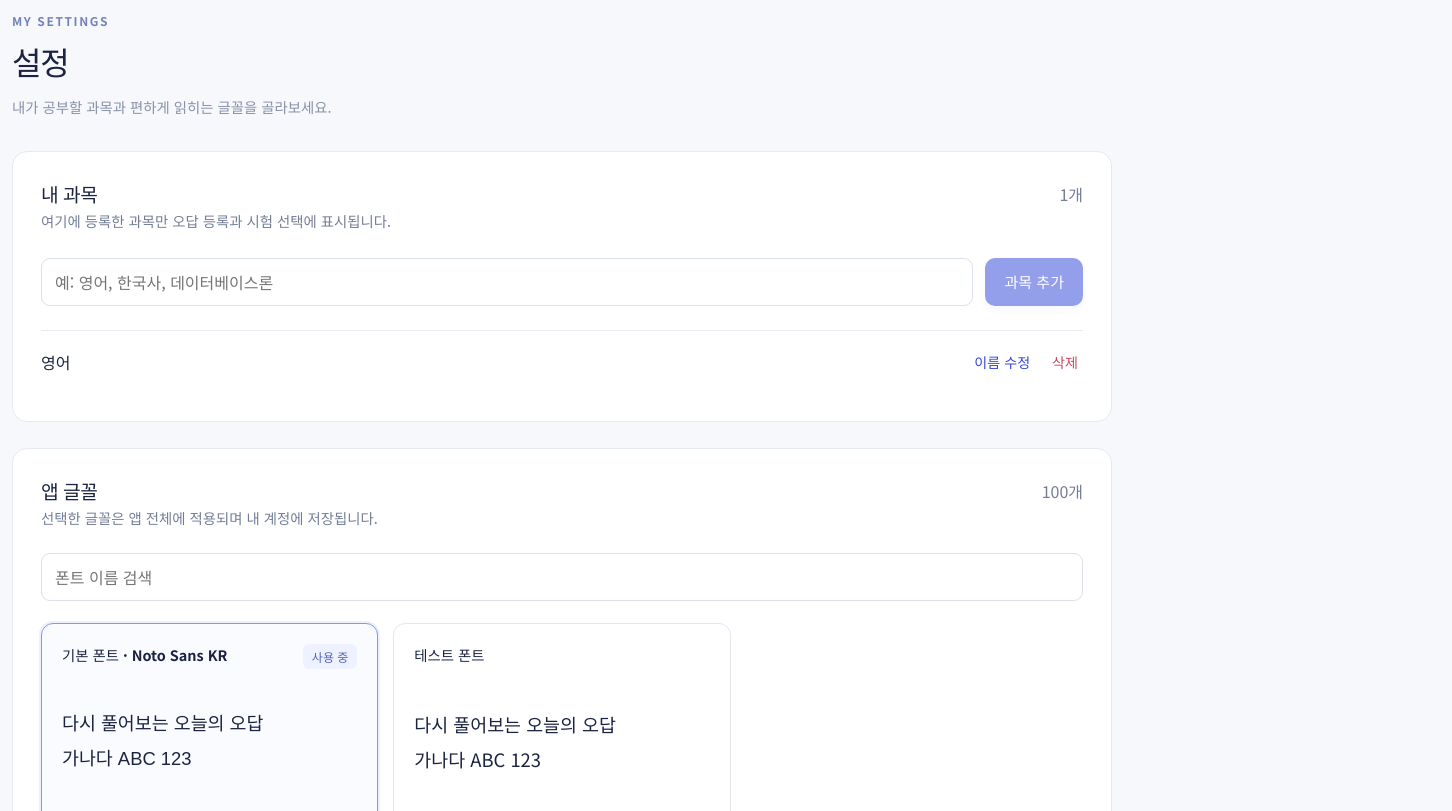
Test: 설정에서 과목 추가·이름 변경·삭제를 할 수 있다
The width and height of the screenshot is (1452, 811).
Step 1. Type "한국사" into the field named "새 과목 이름" → x=507, y=282, box [41, 258, 974, 306]
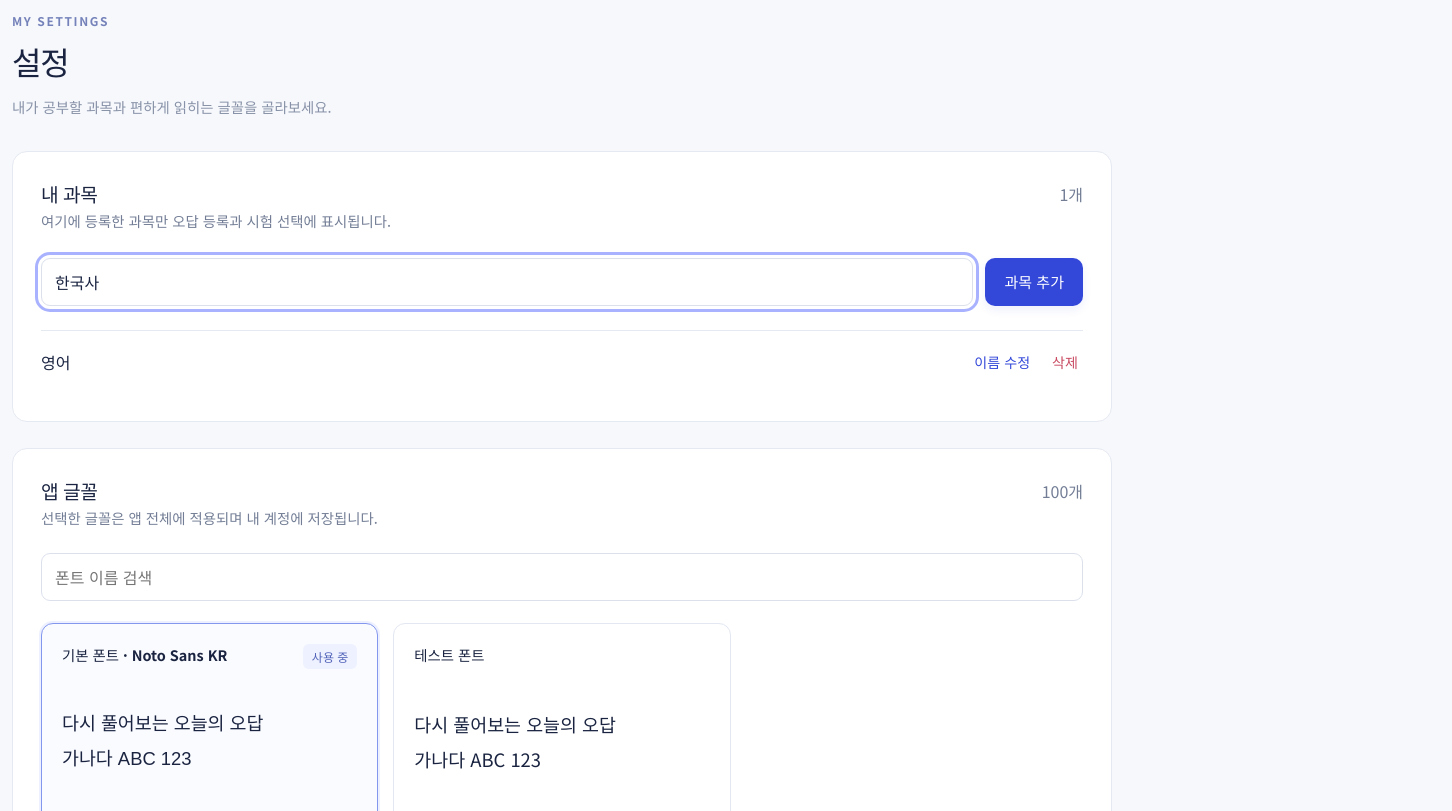
Step 2. Click the button "과목 추가" → x=1034, y=282, box [986, 258, 1083, 306]
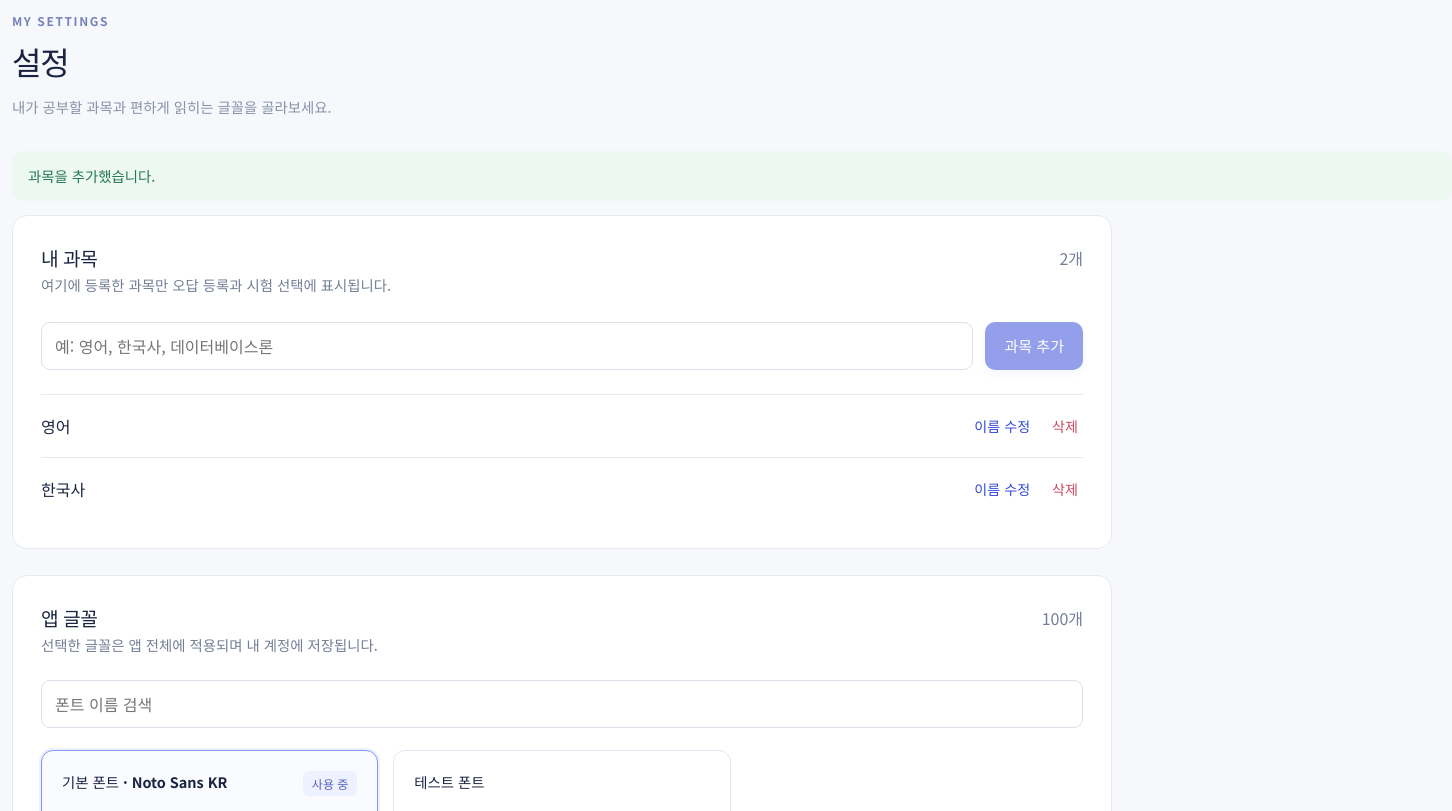
Check: the text "한국사" is shown, box [41, 477, 85, 501]
Step 3. Click the button "이름 수정" in the row of "한국사" → x=1002, y=489, box [969, 474, 1035, 504]
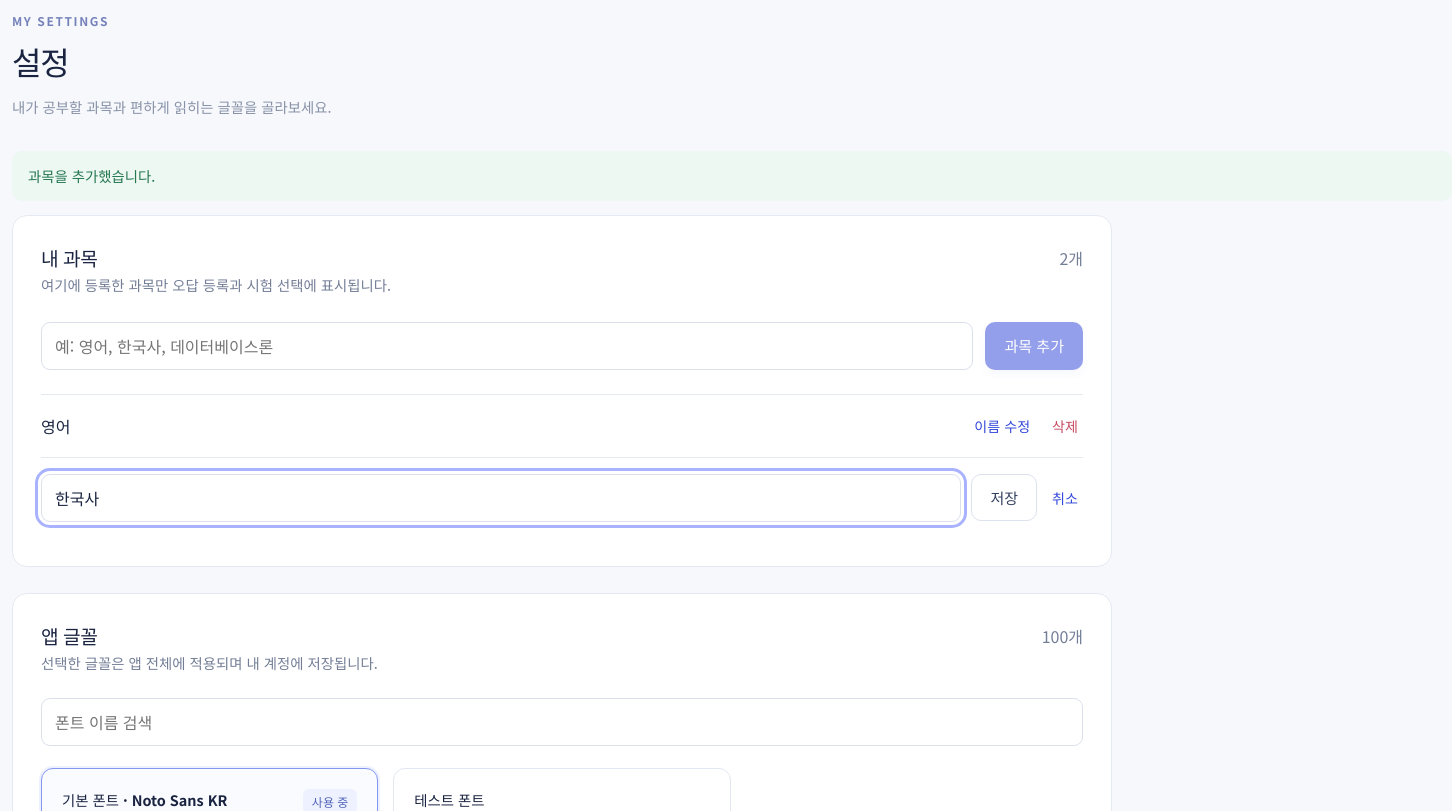
Step 4. Replace the text in the field named "변경할 과목 이름" with "세계사" → x=501, y=498, box [41, 474, 961, 522]
Step 5. Click the button "저장" → x=1004, y=498, box [971, 474, 1037, 522]
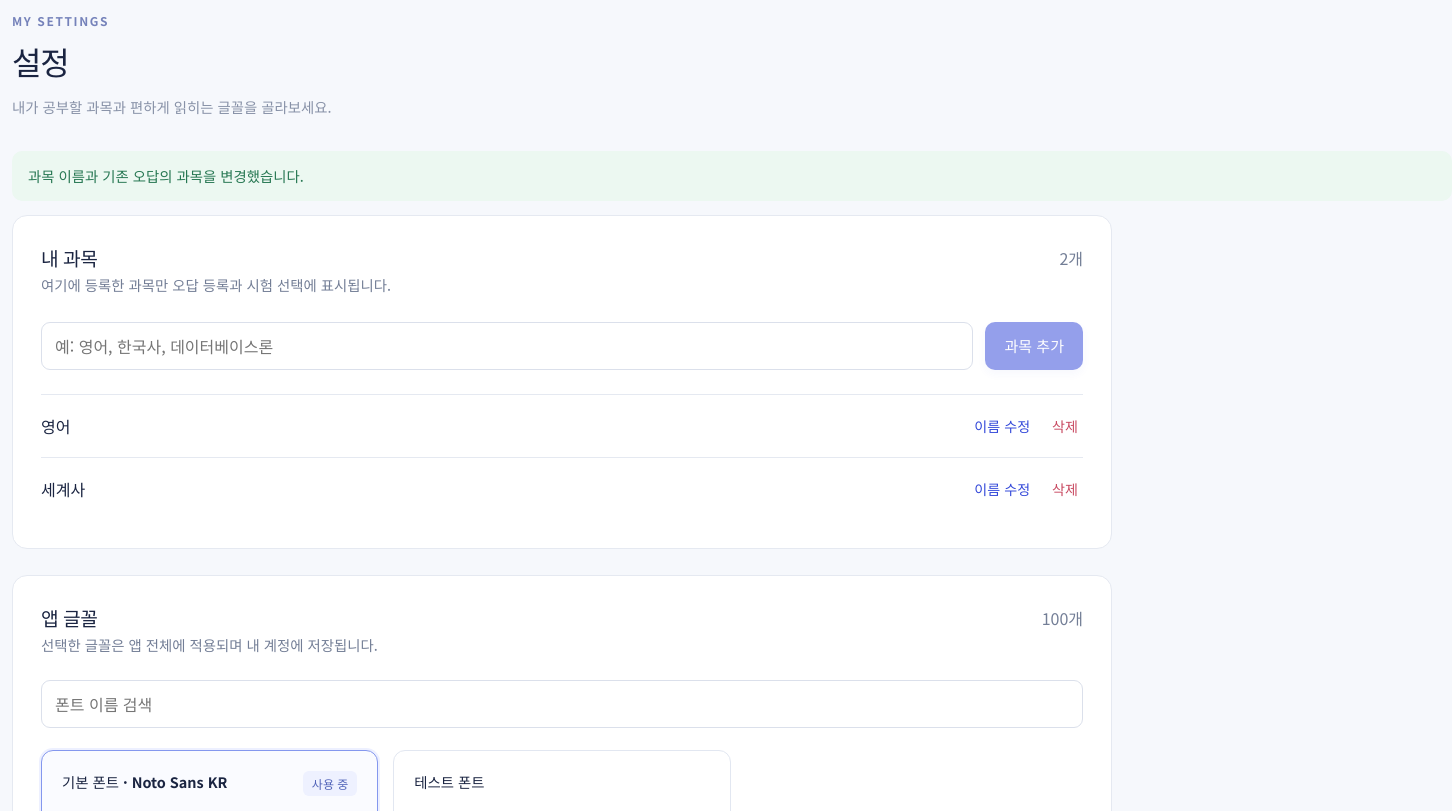
Check: the text "세계사" is shown, box [41, 477, 85, 501]
Step 6. Click the button "삭제" in the row of "세계사" → x=1065, y=489, box [1047, 474, 1083, 504]
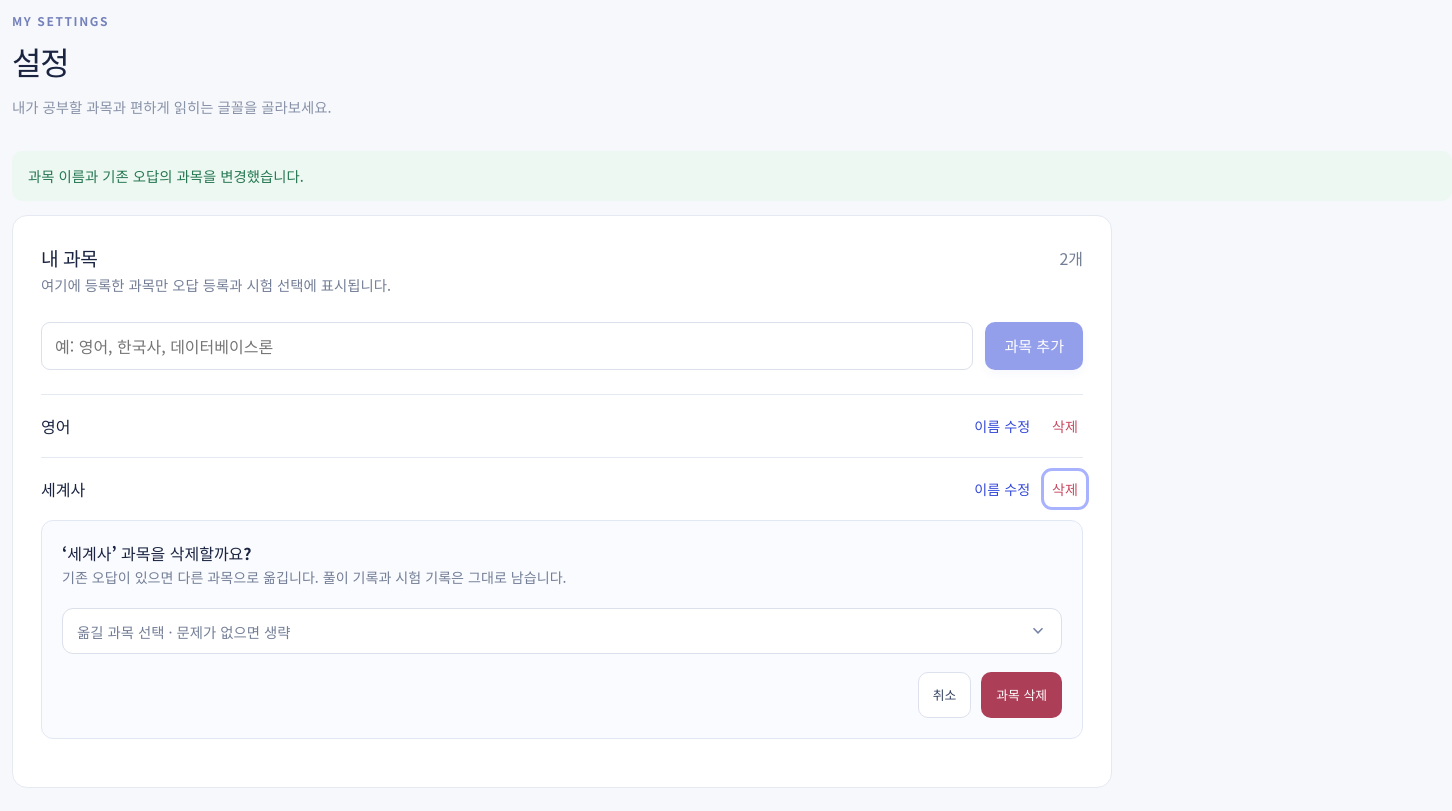
Step 7. Click the button "과목 삭제" → x=1022, y=695, box [981, 672, 1062, 718]
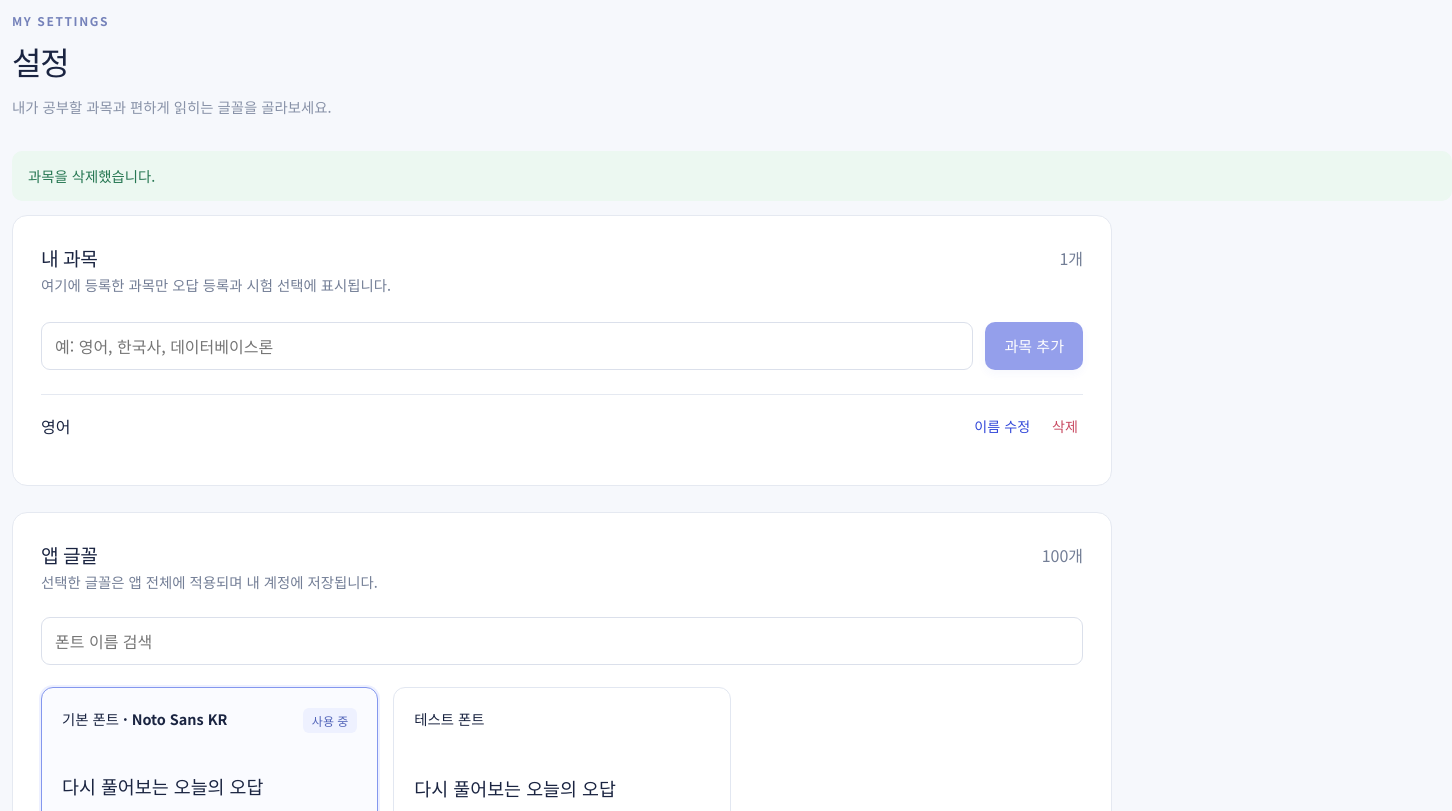
Check: the text "세계사" is gone
